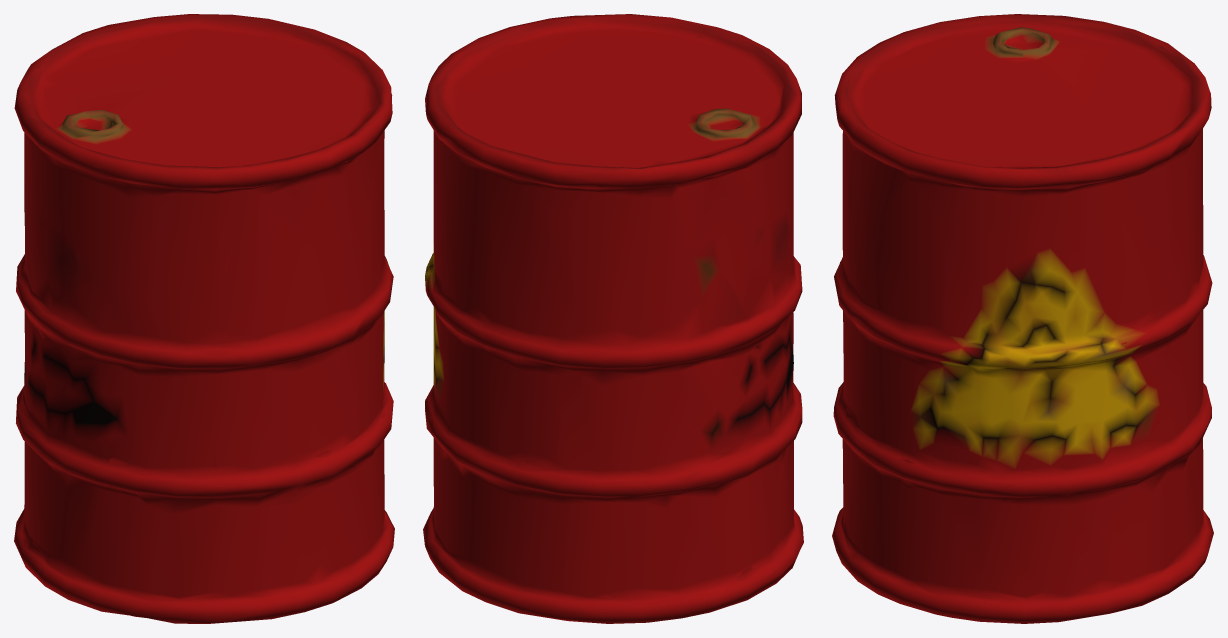
Rendered from gen3d-explosive-barrel-lod0.glb.
3 views of the same model, side by side, from view 1: azimuth 30°, elevation 25°; view 2: azimuth 150°, elevation 25°; view 3: azimuth 270°, elevation 25° (orthographic).
Parts seen in each view (by area): view 1: part_0; view 2: part_0; view 3: part_0.
Part boxes in pixels (x1=…): part_0: x1=14, y1=14, x2=394, y2=623; part_0: x1=423, y1=14, x2=803, y2=623; part_0: x1=832, y1=14, x2=1213, y2=623.
Bounding box in the file's own units: 0.762 × 0.9999 × 0.7626.
